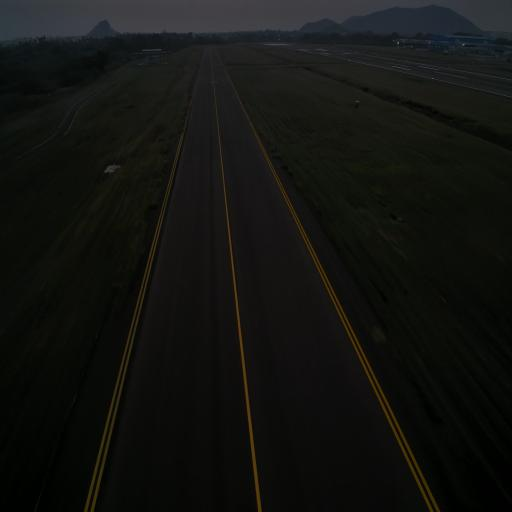on: (163, 156, 168, 164), (272, 150, 277, 158)
